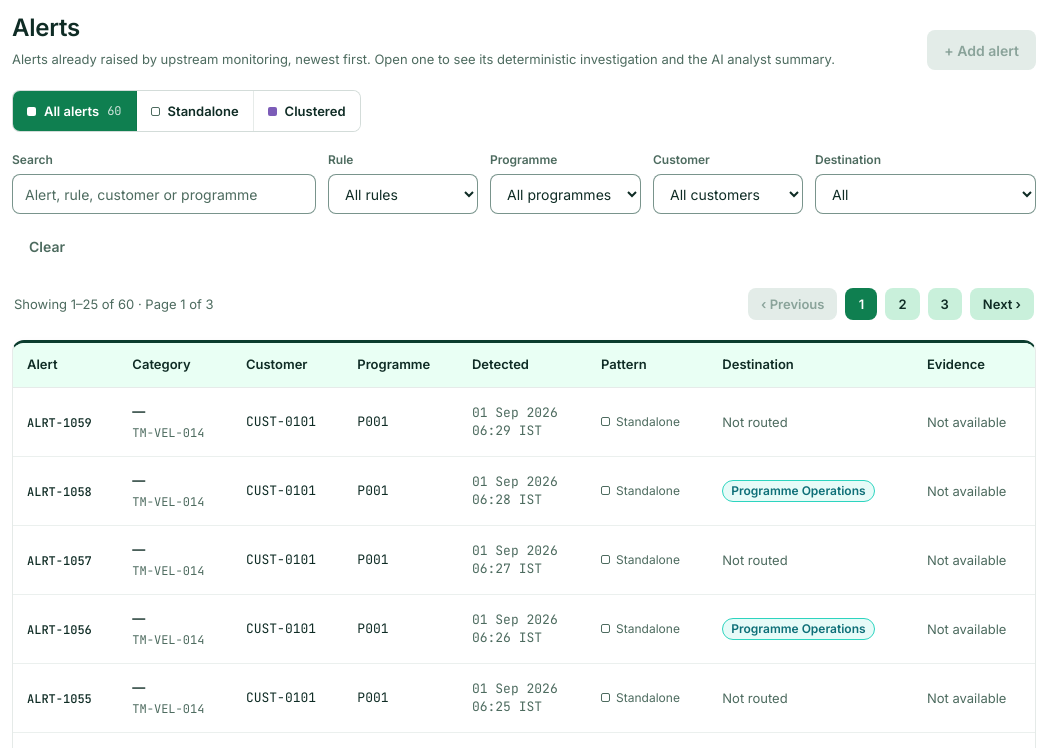
Test: alert queue › paginates only the alerts that match the destination filter
Expected: the text "ALRT-1059" is shown, [27,414,92,430]
Select "Programme Operations" in the dropdown labelled "Destination" at (926, 194), box [815,174,1036,214]
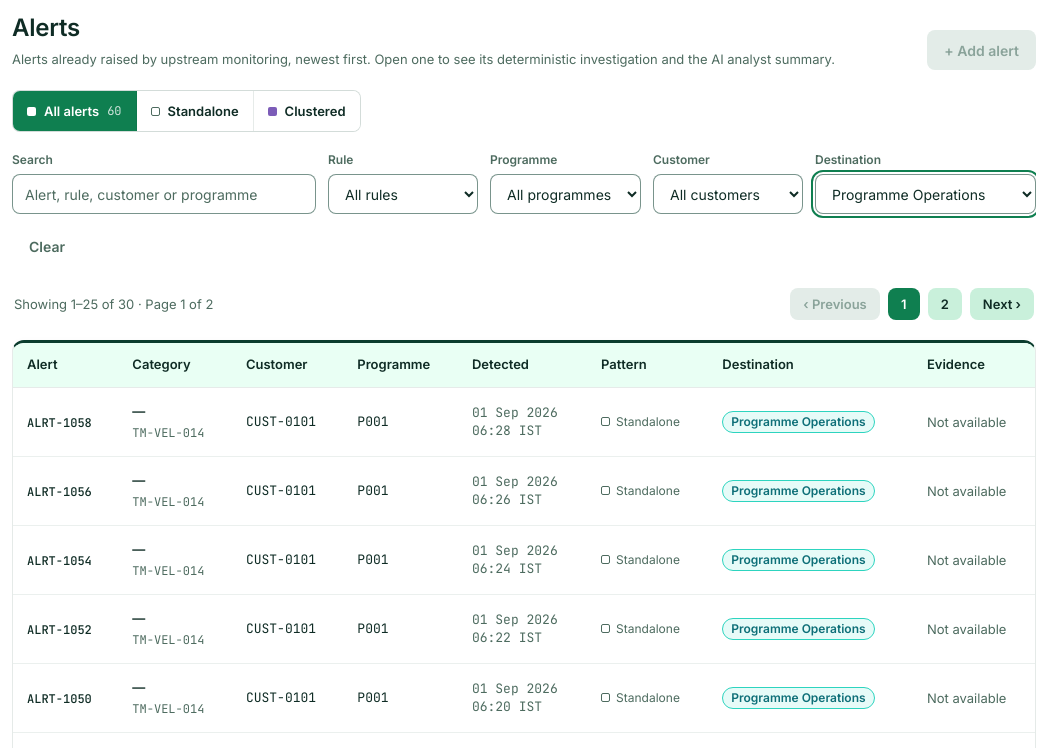
Expected: the text "ALRT-1058" is shown, [27,414,92,430]
Expected: the text "Showing 1–25 of 30 · Page 1 of 2" is shown, [14,293,213,315]
Expected: the text "· Page 1 of 2" is shown, [134,296,213,312]
Click the button named "Page 2" at (945, 304), box [928,288,962,320]
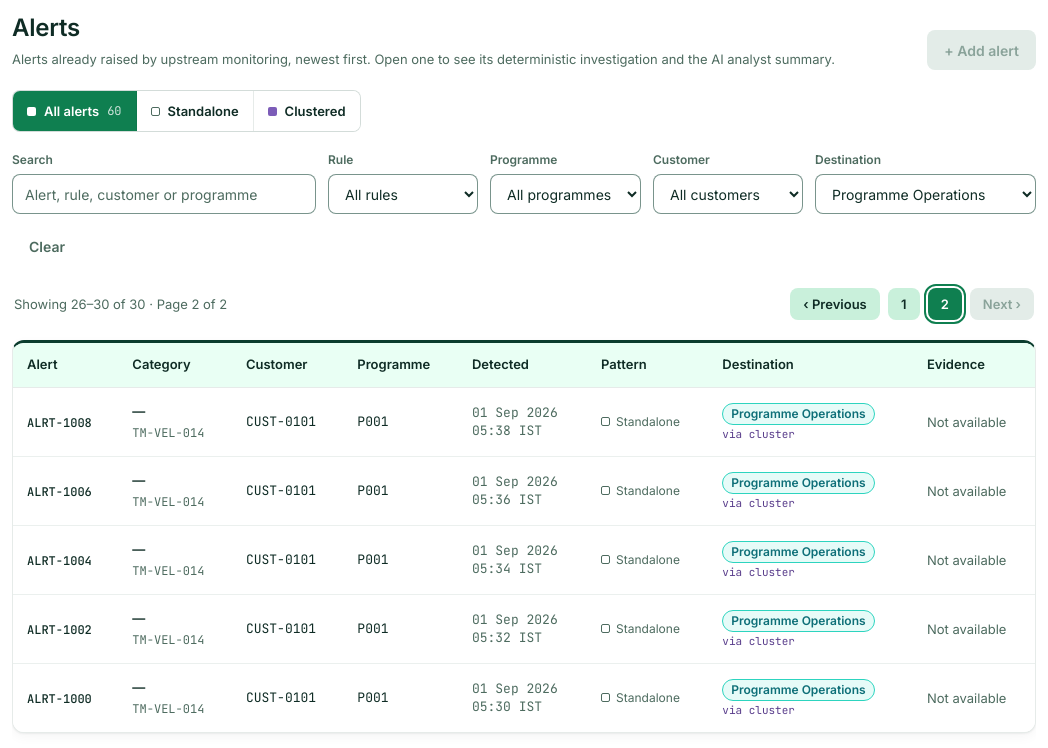
Expected: the text "Programme Operations" in the row of "ALRT-1008" is shown, [731,406,866,421]
Expected: the 1st text "Showing 26–30 of 30 · Page 2 of 2" is shown, [14,293,227,315]
Expected: the text "via cluster" is shown 5 times, [722,427,795,441]; [722,496,795,510]; [722,565,795,579]; [722,634,795,648]; [722,703,795,717]
Note: changing the filter goes back to page 1
Select "No Further Action" in the dropdown labelled "Destination" at (926, 194), box [815,174,1036,214]
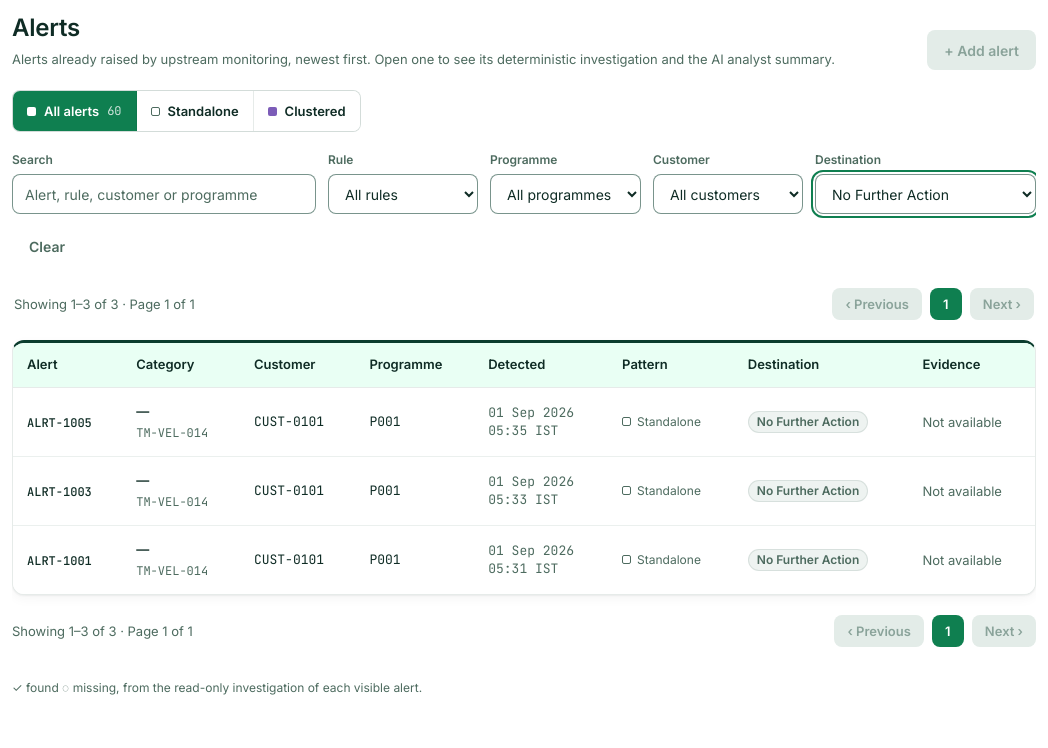
Expected: the 1st text "Showing 1–3 of 3 · Page 1 of 1" is shown, [14,293,195,315]
Select "Not routed" in the dropdown labelled "Destination" at (926, 194), box [815,174,1036,214]
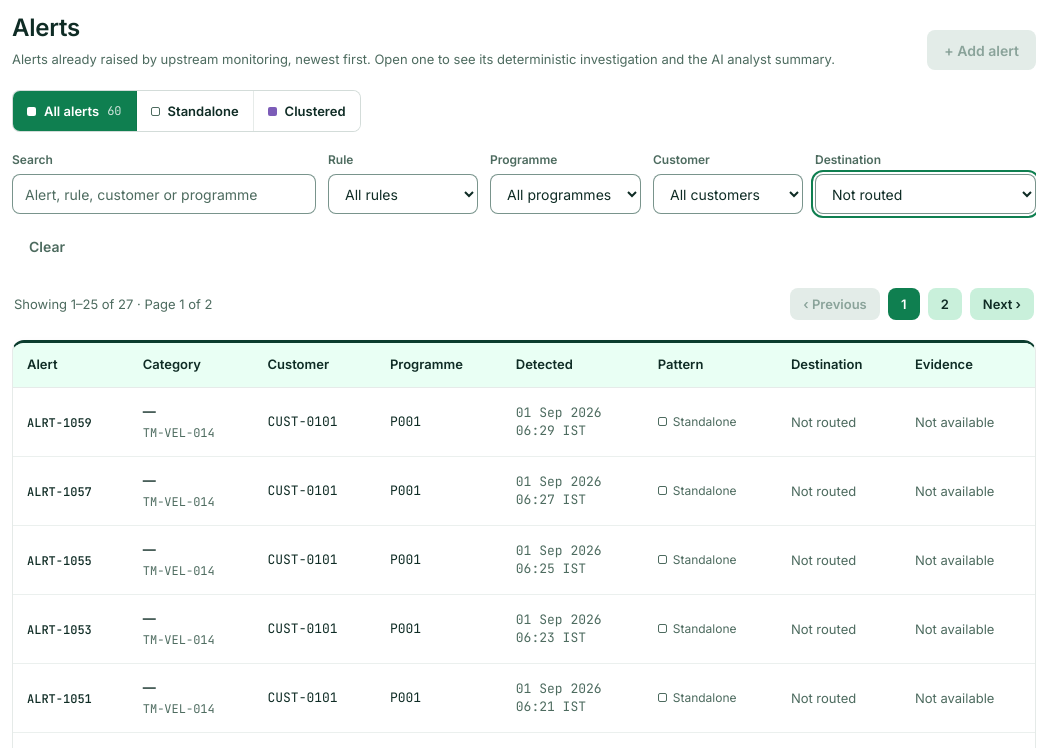
Expected: the text "Showing 1–25 of 27 · Page 1 of 2" is shown, [14,293,212,315]
